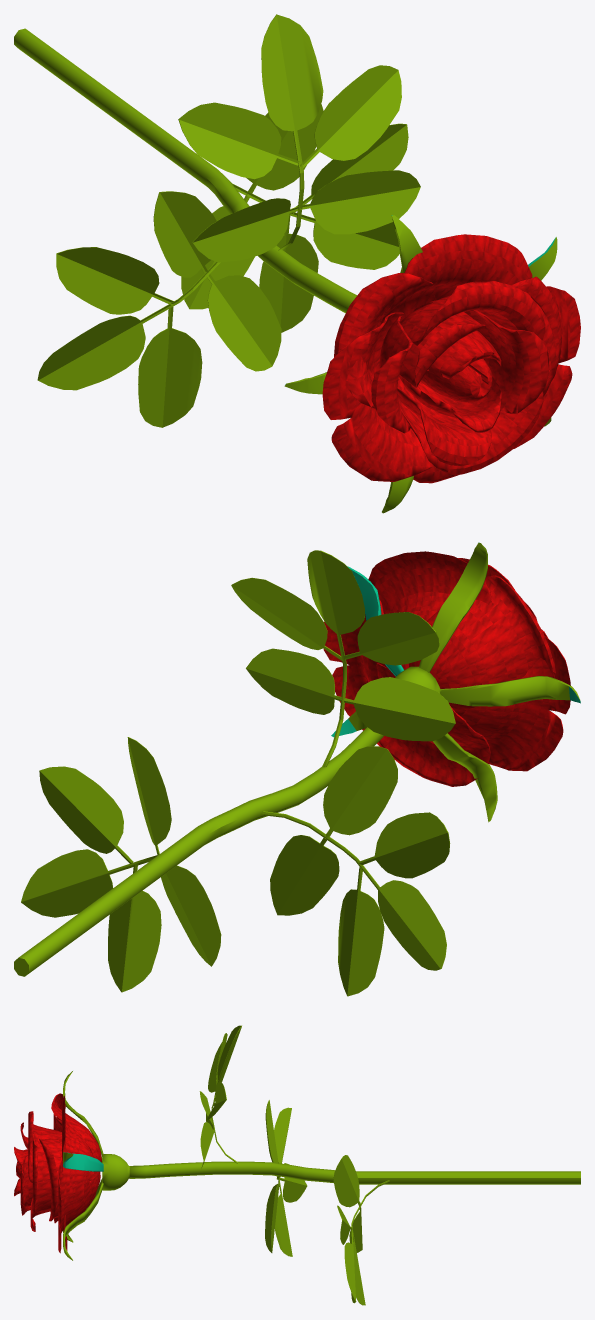
Rendered from Sans titre.glb.
3 views of the same model, one above another, from view 1: azimuth 30°, elevation 25°; view 2: azimuth 150°, elevation 25°; view 3: azimuth 270°, elevation 25° (orthographic). The views are drawn at different scales.
Parts seen in each view (by area): view 1: ID196, ID220, ID238, ID256, ID59, ID188, ID124, ID116, ID148, ID132, ID100, ID156 (+7 smaller); view 2: ID220, ID196, ID238, ID132, ID256, ID59, ID188, ID72, ID80, rose.dxf, ID164, ID47 (+2 smaller); view 3: ID256, ID220, ID238, ID196, ID164, ID172, ID140, ID262, ID132, ID188, ID124, ID23 (+2 smaller).
Part boxes in pixels (bbox=[...]): ID196: bbox=[178, 14, 420, 262]; ID220: bbox=[37, 191, 281, 427]; ID238: bbox=[181, 104, 408, 332]; ID256: bbox=[14, 28, 356, 313]; ID59: bbox=[322, 312, 434, 481]; ID188: bbox=[379, 234, 532, 325]; ID124: bbox=[400, 280, 545, 345]; ID116: bbox=[470, 310, 549, 413]; ID148: bbox=[399, 330, 501, 432]; ID132: bbox=[334, 273, 434, 408]; ID100: bbox=[397, 384, 491, 465]; ID156: bbox=[398, 378, 543, 474]; ID220: bbox=[262, 746, 450, 996]; ID196: bbox=[231, 550, 455, 767]; ID238: bbox=[21, 737, 221, 992]; ID132: bbox=[409, 575, 555, 710]; ID256: bbox=[14, 727, 383, 976]; ID59: bbox=[461, 636, 570, 771]; ID188: bbox=[368, 551, 492, 621]; ID72: bbox=[366, 663, 490, 786]; ID80: bbox=[439, 676, 579, 706]; rose.dxf: bbox=[419, 542, 487, 672]; ID164: bbox=[323, 600, 383, 730]; ID47: bbox=[433, 733, 497, 822]; ID256: bbox=[129, 1161, 580, 1184]; ID220: bbox=[265, 1100, 307, 1256]; ID238: bbox=[333, 1155, 389, 1305]; ID196: bbox=[199, 1025, 241, 1168]; ID164: bbox=[58, 1161, 90, 1253]; ID172: bbox=[32, 1131, 61, 1213]; ID140: bbox=[39, 1139, 100, 1221]; ID262: bbox=[102, 1154, 132, 1190]; ID132: bbox=[51, 1093, 101, 1162]; ID188: bbox=[62, 1095, 93, 1171]; ID124: bbox=[28, 1111, 61, 1182]; ID23: bbox=[63, 1152, 103, 1171].
Bounding box in the file's own units: 76.74 × 76.62 × 156.
58 materials, 15 textured.
